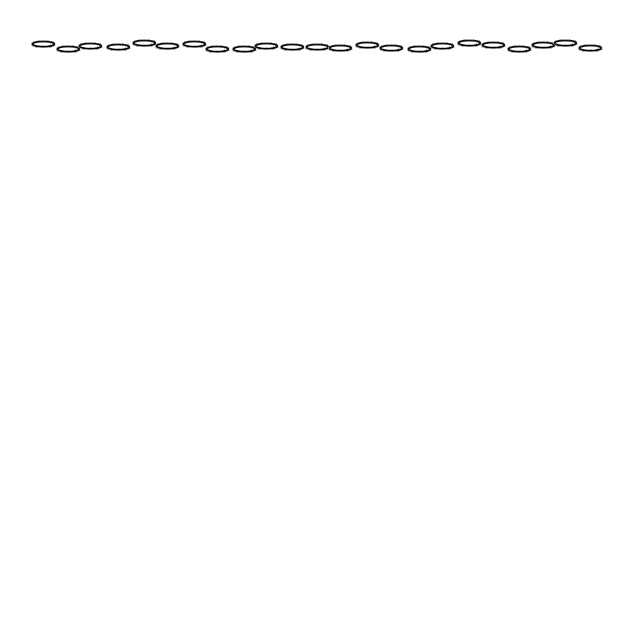chain: (54, 44, 84, 56), (104, 42, 134, 54), (130, 38, 160, 50), (230, 44, 260, 56), (278, 42, 308, 54), (204, 44, 232, 56), (304, 42, 332, 54), (354, 40, 382, 52), (406, 44, 434, 56), (456, 38, 484, 50), (480, 40, 508, 52), (506, 44, 534, 56), (530, 40, 558, 52), (552, 38, 580, 50), (76, 42, 106, 52), (180, 40, 210, 50), (252, 42, 282, 52), (326, 44, 356, 54), (428, 42, 458, 52), (576, 44, 606, 54), (30, 40, 58, 50), (154, 42, 182, 52), (378, 44, 406, 54)
